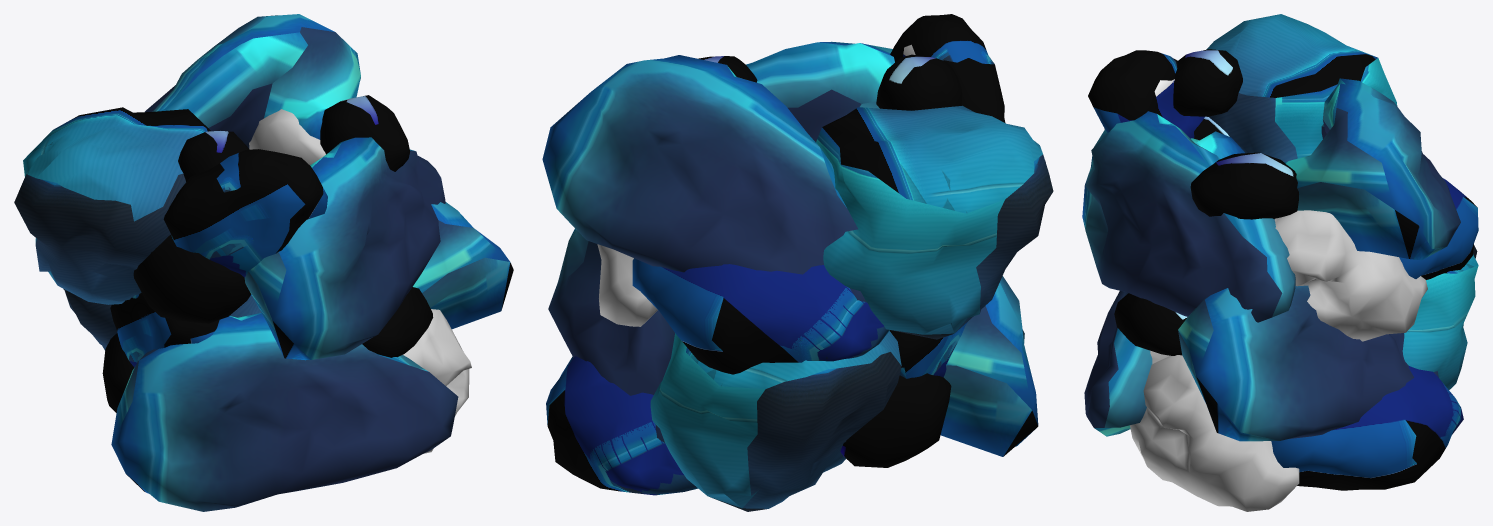
3 renders of one model, left to right at view 1: azimuth 30°, elevation 25°; view 2: azimuth 150°, elevation 25°; view 3: azimuth 270°, elevation 25°, orthographic. The views are drawn at different scales.
Parts seen in each view (by area): view 1: rock_03, pasted__rock_03 (×2), pasted__rock_04, pasted__pasted__rock_03, pasted__pasted__rock_02, pasted__rock_01, pasted__pasted__rock_01 (×2), pasted__pasted__pasted__rock_01, pasted__rock_02, rock_05, pasted__rock_05, rock_04 (+1 smaller); view 2: pasted__pasted__rock_03, pasted__rock_04, rock_04, pasted__rock_02 (×2), pasted__rock_03 (×2), rock_02, rock_03, rock_01, pasted__pasted__rock_02, pasted__pasted__rock_01, pasted__rock_05, pasted__pasted__pasted__rock_01; view 3: pasted__rock_03 (×2), pasted__pasted__rock_03, pasted__rock_04, rock_05, rock_02, pasted__rock_05, pasted__pasted__rock_01 (×2), pasted__pasted__pasted__rock_01, rock_04, pasted__pasted__rock_02, rock_03, pasted__rock_02.
Part boxes in pixels (box(x1,y1,x2,y2)): rock_03: box(111, 313, 458, 511); pasted__rock_03 (×2): box(244, 137, 513, 360); pasted__rock_04: box(14, 107, 210, 304); pasted__pasted__rock_03: box(145, 14, 360, 148); pasted__pasted__rock_02: box(163, 149, 327, 277); pasted__rock_01: box(133, 235, 251, 323); pasted__pasted__rock_01 (×2): box(178, 131, 433, 357); pasted__pasted__pasted__rock_01: box(320, 95, 410, 171); pasted__rock_02: box(110, 292, 219, 367); rock_05: box(403, 309, 471, 453); pasted__rock_05: box(249, 109, 325, 164); rock_04: box(63, 289, 261, 350); pasted__pasted__rock_03: box(542, 55, 867, 302); pasted__rock_04: box(816, 105, 1053, 339); rock_04: box(650, 331, 901, 511); pasted__rock_02 (×2): box(632, 258, 967, 378); pasted__rock_03 (×2): box(548, 41, 894, 442); rock_02: box(546, 356, 697, 495); rock_03: box(940, 276, 1038, 456); rock_01: box(840, 373, 951, 467); pasted__pasted__rock_02: box(890, 14, 1005, 122); pasted__pasted__rock_01: box(876, 54, 962, 110); pasted__rock_05: box(597, 244, 657, 326); pasted__pasted__pasted__rock_01: box(698, 56, 757, 82); pasted__rock_03 (×2): box(1082, 111, 1438, 441); pasted__pasted__rock_03: box(1284, 78, 1460, 260); pasted__rock_04: box(1206, 14, 1397, 162); rock_05: box(1130, 350, 1299, 511); rock_02: box(1271, 366, 1463, 490); pasted__rock_05: box(1274, 210, 1427, 341); pasted__pasted__rock_01 (×2): box(1114, 49, 1242, 355); pasted__pasted__pasted__rock_01: box(1190, 152, 1298, 219); rock_04: box(1402, 245, 1478, 389); pasted__pasted__rock_02: box(1088, 50, 1204, 138); rock_03: box(1084, 291, 1152, 436); pasted__rock_02: box(1399, 178, 1478, 279).
Size of the model in its own units: 693 by 548 by 541.
